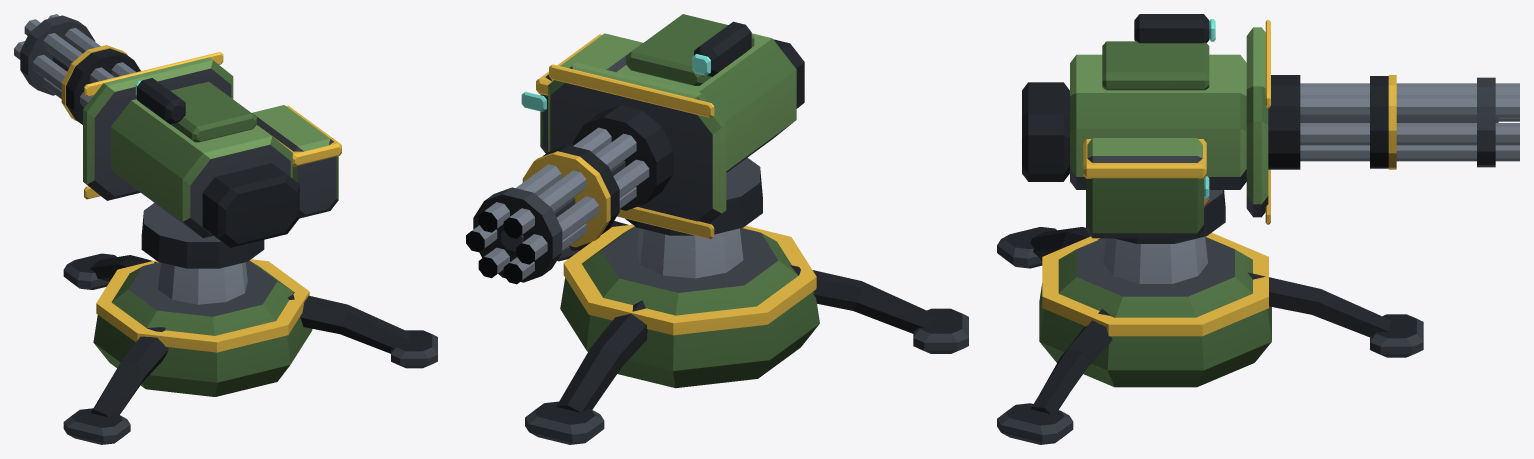
File: Turret.fbx
The picture shows the model from 3 angles, left to right: view 1: azimuth 30°, elevation 25°; view 2: azimuth 150°, elevation 25°; view 3: azimuth 270°, elevation 25°; orthographic projection. The views are drawn at different scales.
Visible parts, largest first — view 1: Head, Base, Tripod, Neck, Barrels, BaseStripe; view 2: Head, Base, Barrels, Tripod, BaseStripe, Neck, HeadGlow; view 3: Head, Base, Barrels, Tripod, BaseStripe, Neck.
Part boxes in pixels (x1,y1,x2,y2): Head: [83, 52, 341, 247]; Base: [93, 260, 312, 396]; Tripod: [63, 253, 437, 444]; Neck: [141, 203, 264, 304]; Barrels: [14, 14, 140, 124]; BaseStripe: [96, 259, 309, 352]; Head: [536, 14, 804, 239]; Base: [560, 226, 819, 388]; Barrels: [466, 127, 649, 284]; Tripod: [525, 221, 968, 444]; BaseStripe: [563, 224, 816, 335]; Neck: [625, 157, 762, 278]; HeadGlow: [521, 54, 710, 111]; Head: [1022, 14, 1300, 238]; Base: [1039, 236, 1271, 387]; Barrels: [1300, 75, 1519, 169]; Tripod: [997, 227, 1423, 444]; BaseStripe: [1042, 232, 1268, 336]; Neck: [1103, 190, 1225, 283].
Bounding box in the file's own units: 0.911 × 0.6375 × 0.9763.
Materials: 2 (2 with a texture image).
